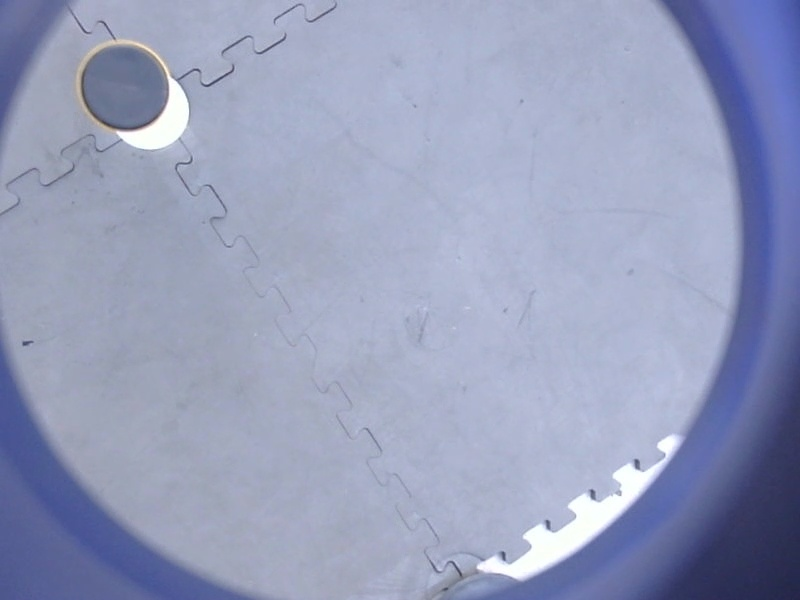tip: (73, 36, 176, 139)
